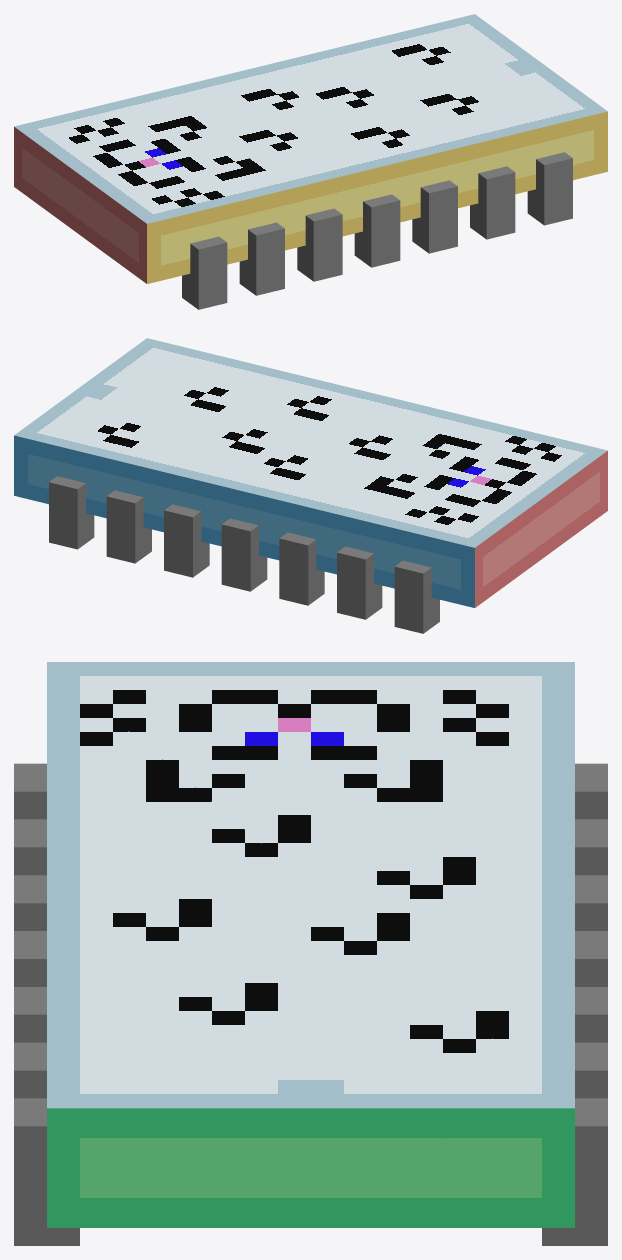
The model's file is rom.gltf.
The picture shows the model from 3 angles, top to bottom: view 1: azimuth 30°, elevation 25°; view 2: azimuth 150°, elevation 25°; view 3: azimuth 270°, elevation 25°; orthographic projection. The views are drawn at different scales.
Visible parts, largest first — view 1: mesh; view 2: mesh; view 3: mesh.
Boxes of the visible parts, x1=… form: mesh: x1=14, y1=14, x2=607, y2=309; mesh: x1=14, y1=338, x2=607, y2=633; mesh: x1=14, y1=662, x2=607, y2=1245.
Bounding box in the file's own units: 1 × 0.1875 × 0.5625.
Materials: 1 (1 with a texture image).
